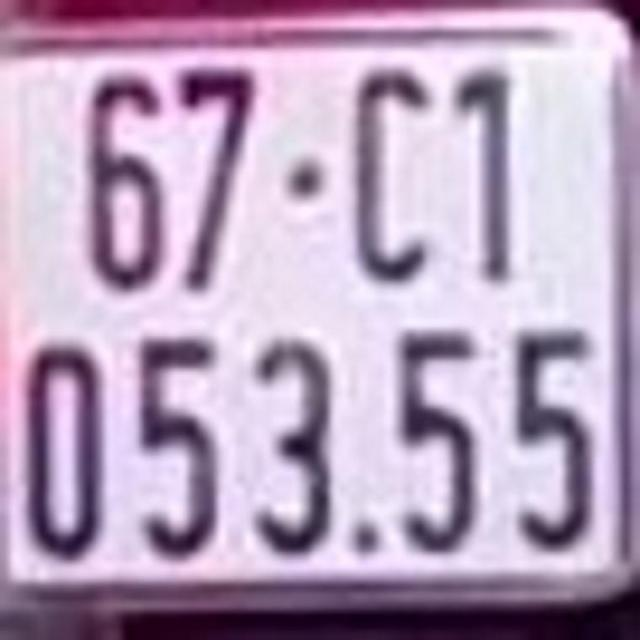0: (21, 337, 102, 561)
1: (445, 56, 534, 286)
3: (248, 329, 334, 560)
5: (134, 329, 221, 562), (397, 324, 482, 559), (510, 328, 596, 555)
6: (85, 66, 166, 297)
7: (172, 62, 255, 294)
C: (351, 62, 433, 286)
